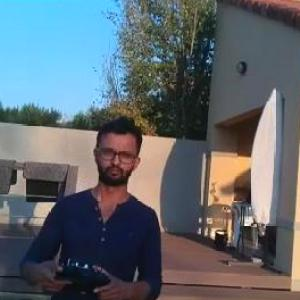follow: (11, 106, 166, 299)
